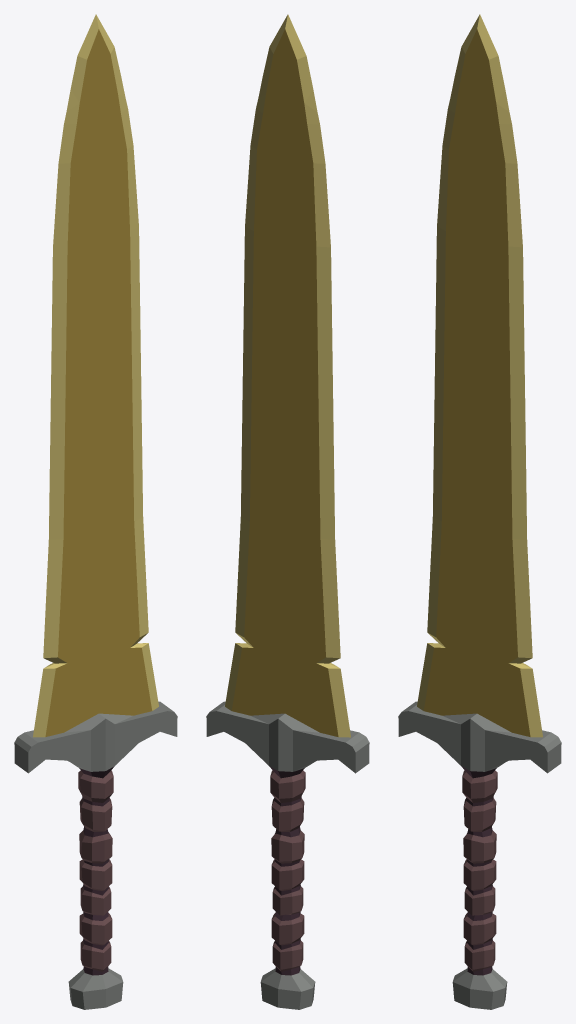
Rendered from Sword_big_Golden.glb.
The picture shows the model from 3 angles, left to right: view 1: azimuth 30°, elevation 25°; view 2: azimuth 150°, elevation 25°; view 3: azimuth 330°, elevation 25°; orthographic projection.
Parts seen in each view (by area): view 1: Sword_big_Golden_Cylinder.042; view 2: Sword_big_Golden_Cylinder.042; view 3: Sword_big_Golden_Cylinder.042.
Part boxes in pixels (x1,y1,x2,y2): Sword_big_Golden_Cylinder.042: (14, 14, 177, 1009); Sword_big_Golden_Cylinder.042: (206, 14, 369, 1009); Sword_big_Golden_Cylinder.042: (398, 14, 561, 1009).
Bounding box in the file's own units: 0.433 × 2.73 × 0.1011.
1 material, 1 textured.
